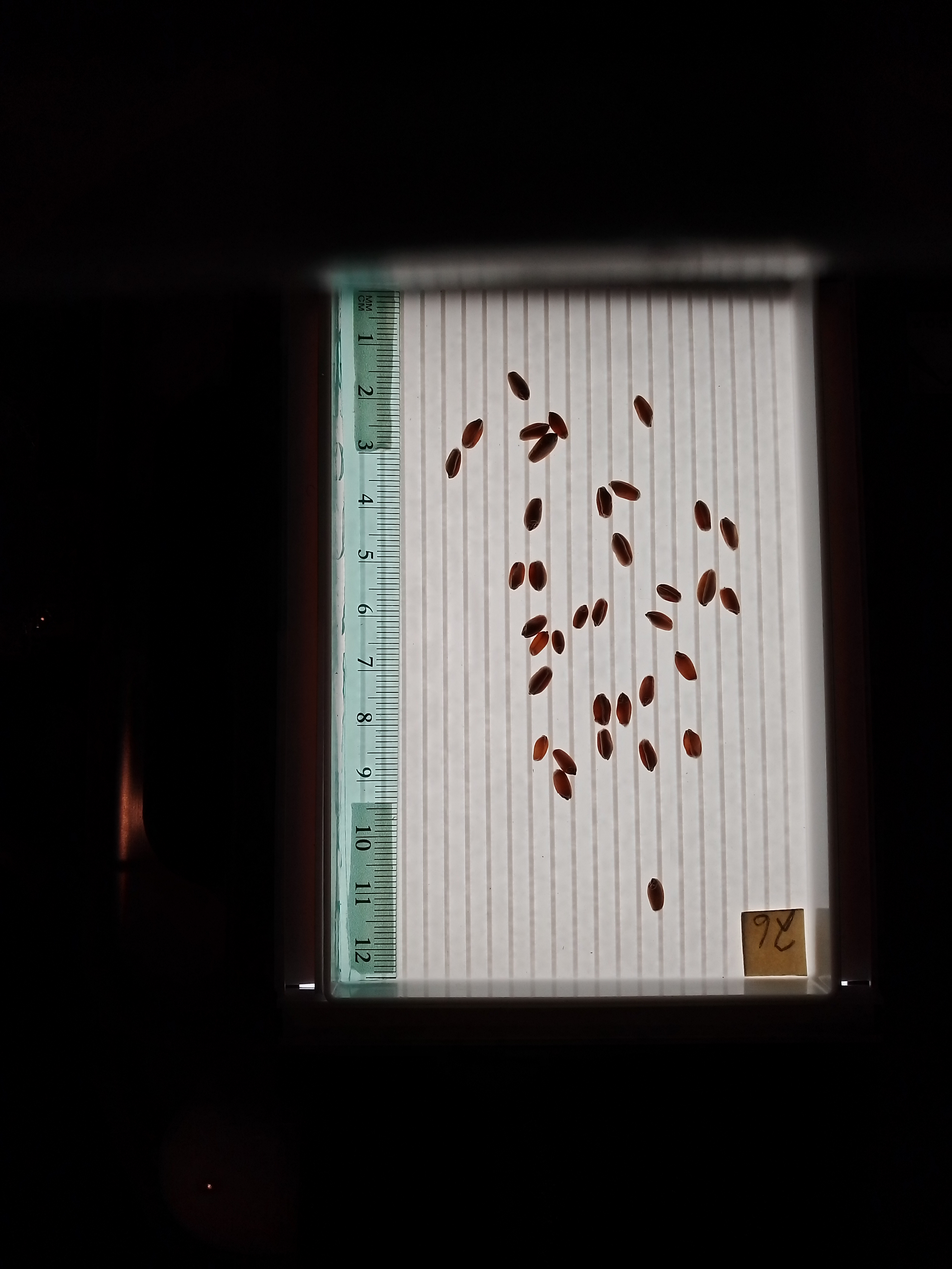seed mask: (529, 433, 558, 463), (612, 534, 633, 566), (528, 667, 552, 695), (507, 372, 530, 401), (462, 419, 483, 449), (697, 570, 715, 605), (610, 480, 639, 501), (633, 397, 653, 427), (554, 749, 577, 775), (524, 498, 542, 531), (721, 517, 739, 549), (639, 740, 657, 772), (520, 422, 550, 441), (676, 653, 697, 680), (553, 770, 572, 799), (647, 880, 664, 911), (529, 561, 547, 590), (593, 695, 611, 724), (549, 412, 568, 439), (522, 616, 546, 637), (684, 730, 702, 758), (721, 588, 740, 614), (596, 487, 612, 517), (508, 562, 525, 590), (647, 611, 672, 630), (695, 502, 711, 531), (639, 676, 654, 706), (617, 694, 632, 724), (446, 449, 461, 478), (592, 599, 608, 626), (657, 585, 681, 602), (597, 732, 612, 759), (573, 605, 589, 629), (533, 736, 549, 760), (530, 633, 548, 654), (552, 631, 564, 653)
